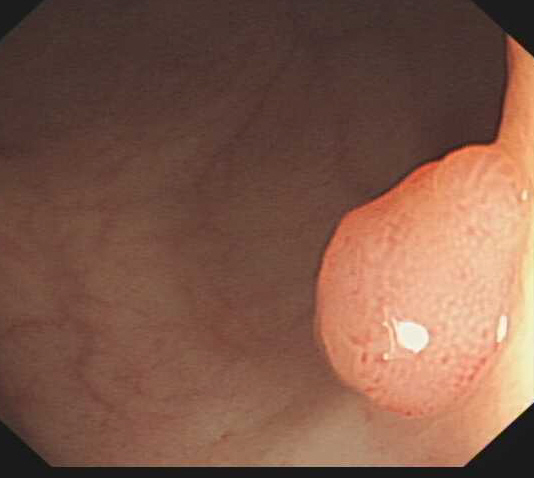adenoma: (310, 140, 531, 422)
